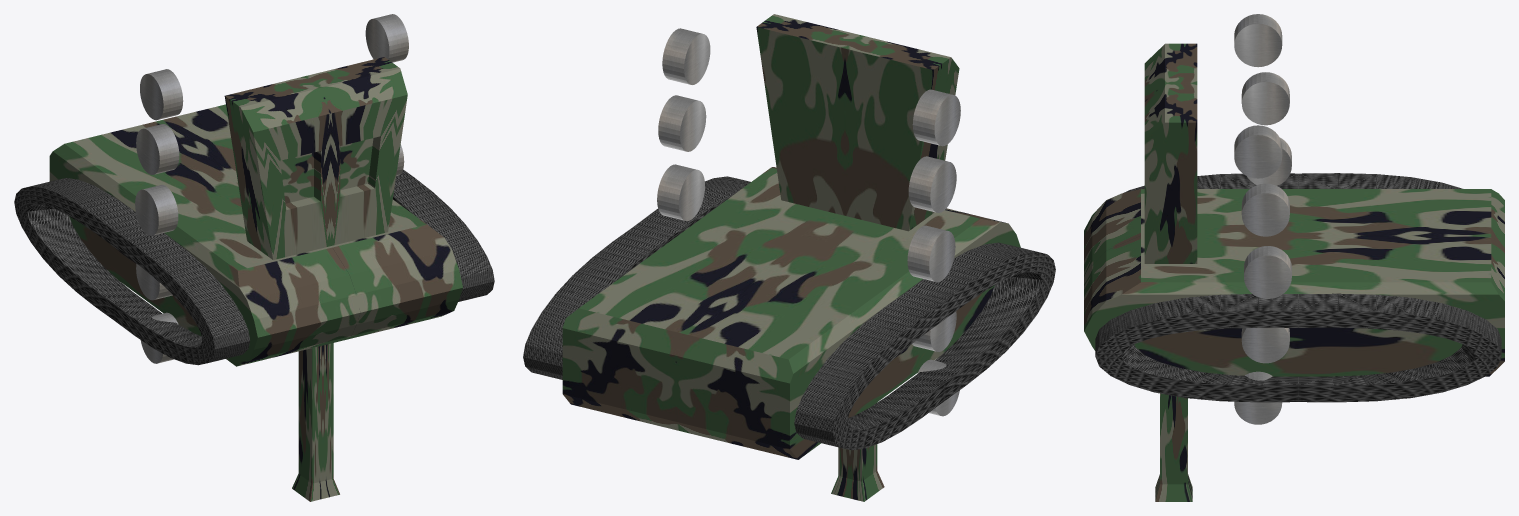
The model's file is tank.obj.
3 renders of one model, left to right at view 1: azimuth 30°, elevation 25°; view 2: azimuth 150°, elevation 25°; view 3: azimuth 270°, elevation 25°, orthographic. The views are drawn at different scales.
Parts seen in each view (by area): view 1: body, tourelle, chenille, canon, wheels_1, wheels_3, wheels_2, wheels_4; view 2: body, chenille, tourelle, wheels_2, wheels_1, wheels_3, canon, wheels_4; view 3: body, chenille, tourelle, wheels_1, wheels_2, canon, wheels_3, wheels_4, wheels_5.
Boxes of the visible parts, x1,y1,x2,y2 form: body: (49, 104, 462, 366); tourelle: (224, 57, 407, 259); chenille: (14, 169, 494, 365); canon: (292, 343, 339, 501); wheels_1: (140, 14, 408, 120); wheels_3: (135, 144, 404, 235); wheels_2: (136, 124, 179, 174); wheels_4: (136, 263, 172, 300); body: (562, 167, 1020, 459); chenille: (523, 176, 1055, 450); tourelle: (756, 14, 959, 231); wheels_2: (658, 95, 956, 212); wheels_1: (662, 28, 960, 146); wheels_3: (657, 164, 955, 282); canon: (831, 403, 884, 501); wheels_4: (912, 311, 956, 351); body: (1084, 189, 1504, 376); chenille: (1095, 173, 1501, 402); tourelle: (1144, 43, 1197, 263); wheels_1: (1234, 14, 1282, 178); wheels_2: (1241, 72, 1289, 236); canon: (1155, 393, 1192, 501); wheels_3: (1244, 137, 1291, 298); wheels_4: (1241, 327, 1289, 363); wheels_5: (1234, 371, 1282, 424).
Bounding box in the file's own units: 6.55 × 9.31 × 8.45.
Materials: 3 (3 with a texture image).
